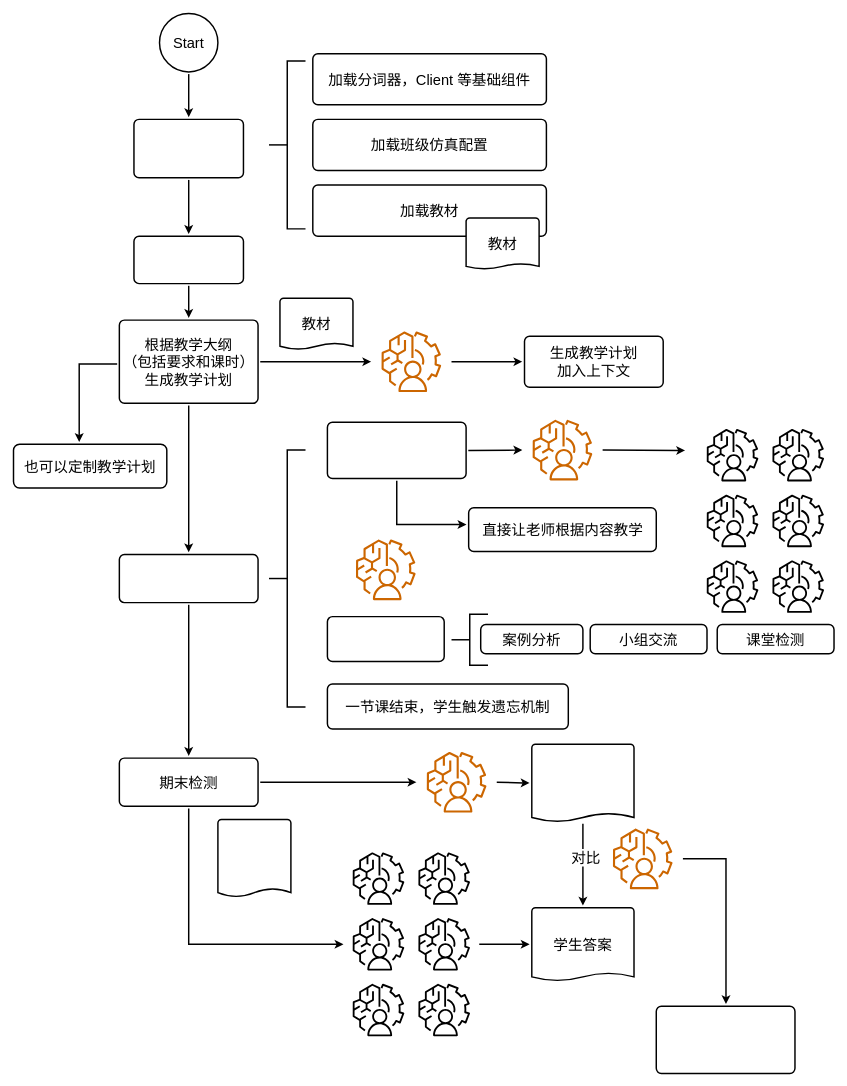
This 847x1086 diagram has some shape labels left out. The box of each missing label's shape, as (x1, y1, x2, y2) in pixels:
Extra 部分 需要老师安排: (326, 616, 445, 662)
上课 LOOP: (118, 553, 258, 603)
开始实验: (133, 235, 244, 284)
标准答案: (531, 743, 634, 822)
根据教学计划 开始第 N 节课: (326, 421, 466, 479)
给出期末成绩单: (655, 1005, 795, 1074)
试卷: (217, 818, 291, 897)
预加载配置: (133, 118, 244, 178)
